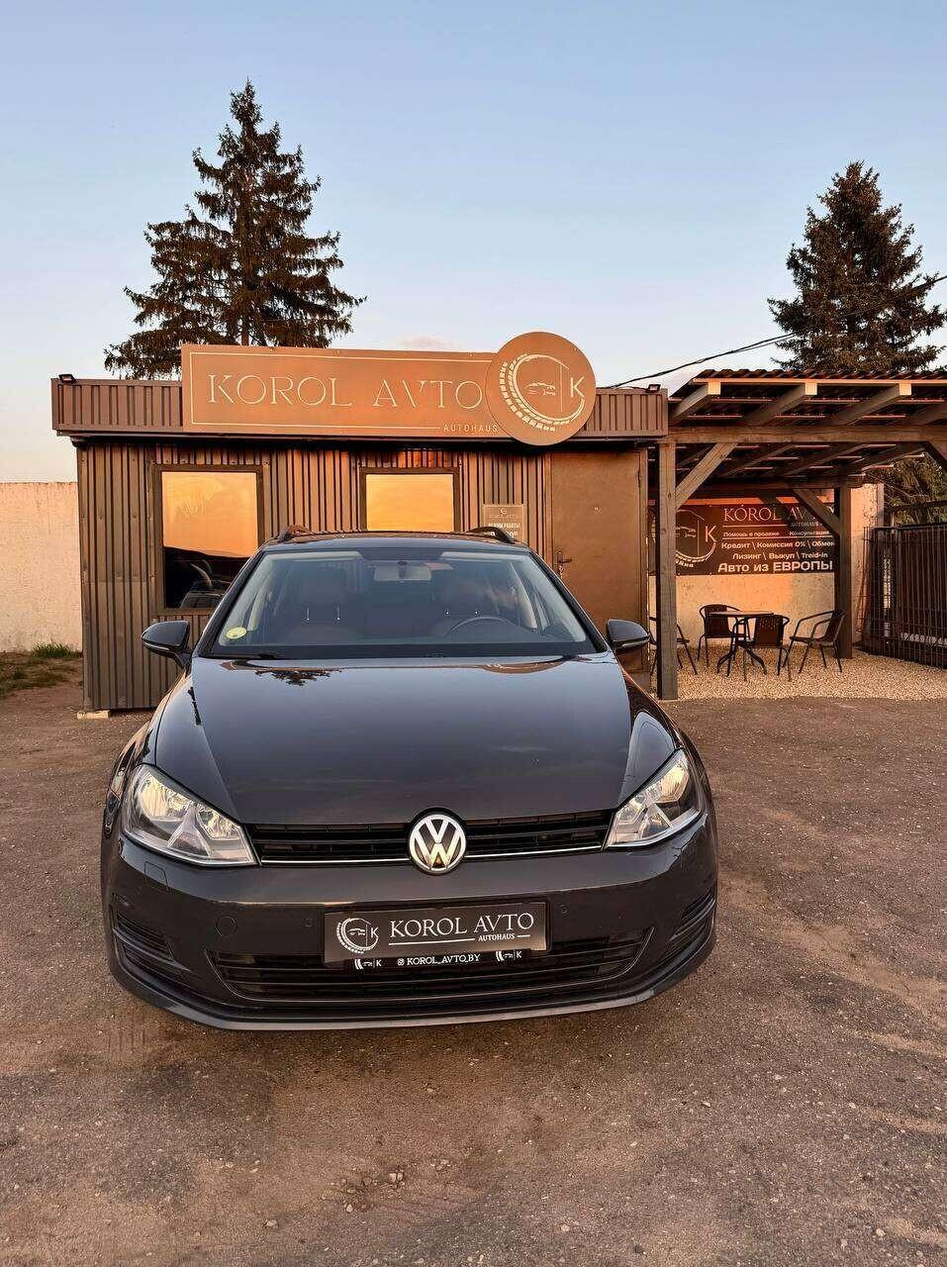Golf_2012-2017: (106, 528, 734, 1029)
